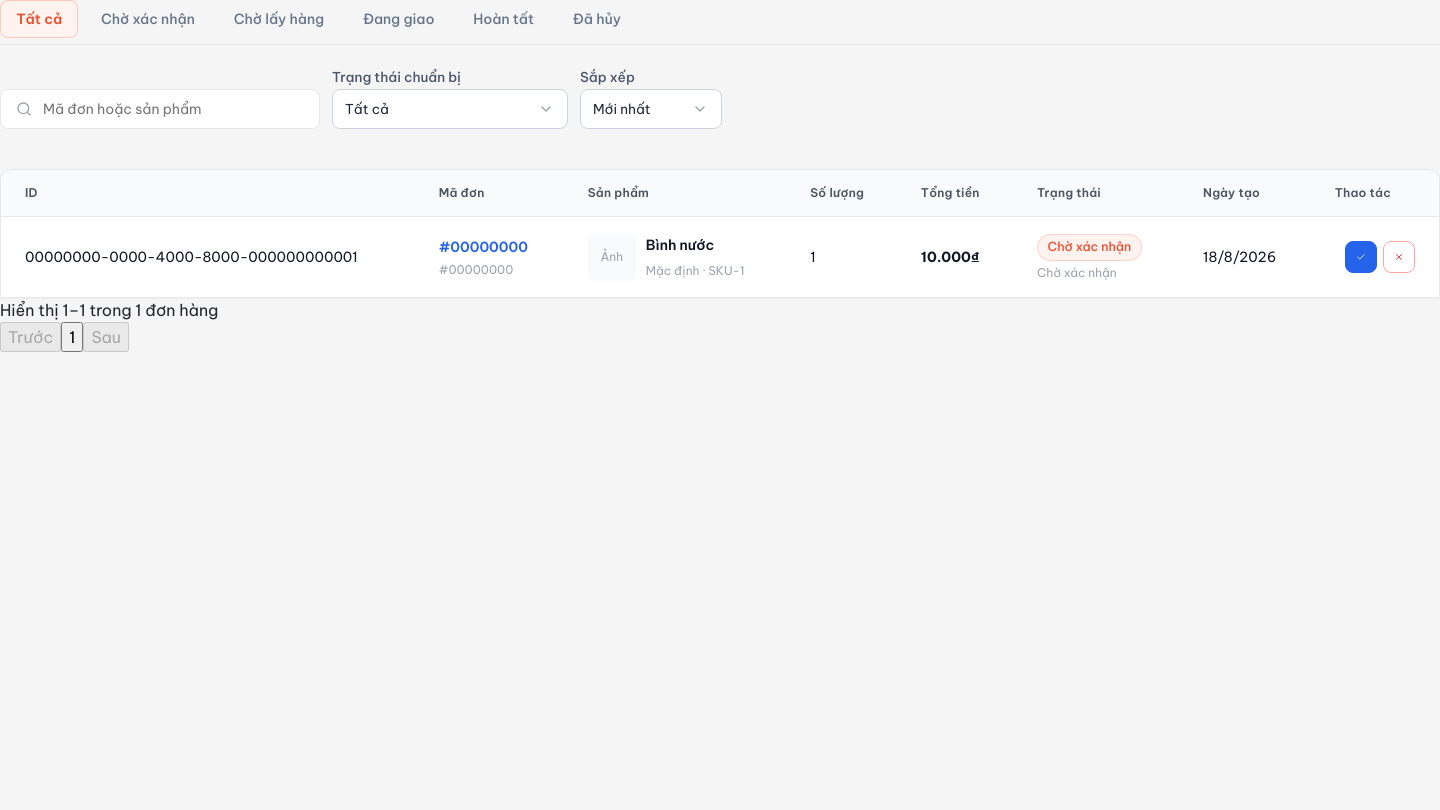
Test case: Seller order management › executes a queue action with the row version and refreshes the row
Click the button named "Xác nhận đơn đơn hàng " at (1361, 258), box [1345,242,1377,274]
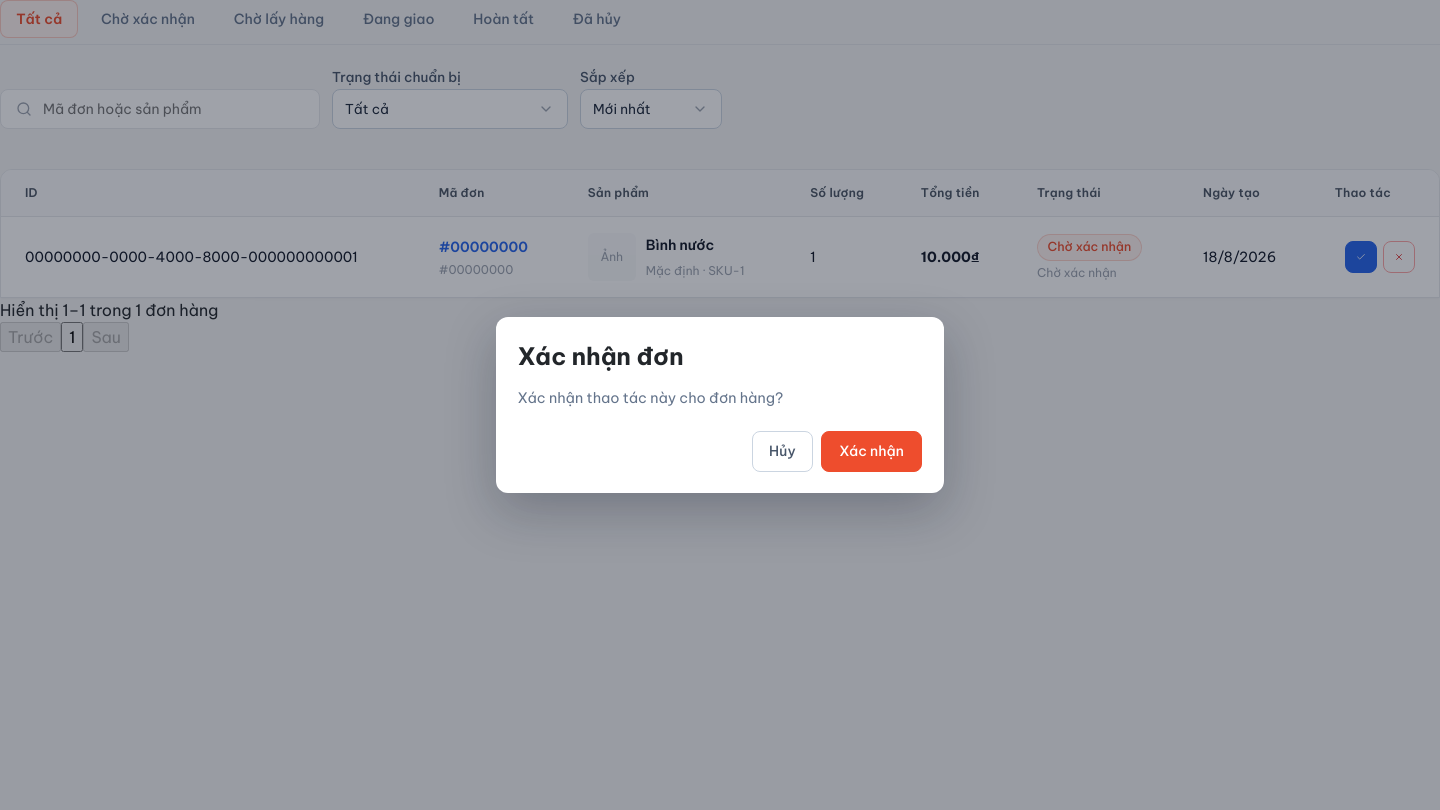
Click the button "Xác nhận" at (872, 451), box [821,431,922,472]
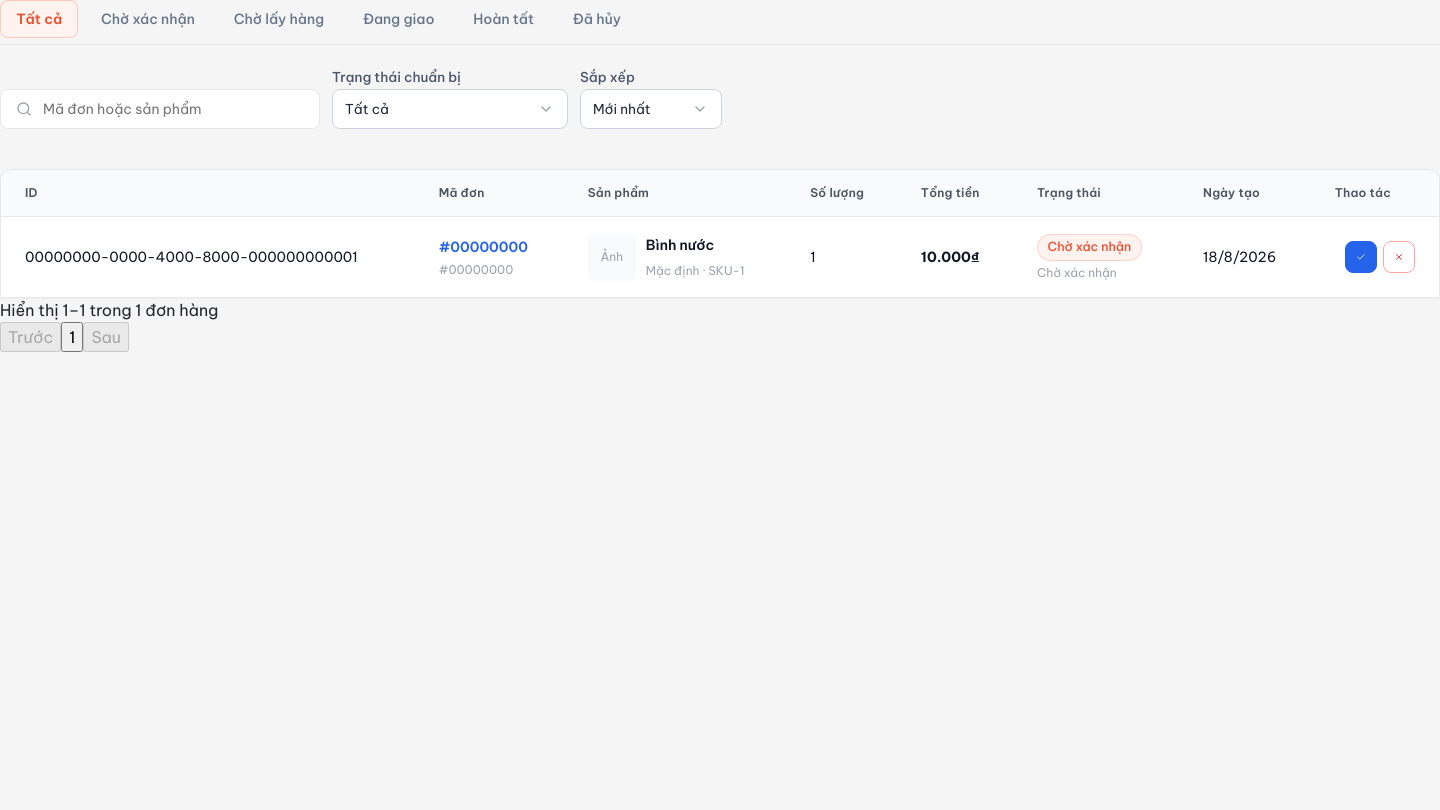
Now the dialog is gone
